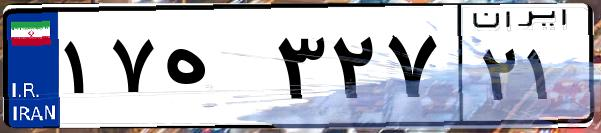1: (57, 26, 110, 100), (525, 38, 570, 115)
2: (330, 28, 385, 110), (475, 38, 525, 113)
3: (270, 28, 330, 110)
7: (385, 28, 445, 110), (110, 28, 158, 98)
ه: (158, 20, 270, 120)
